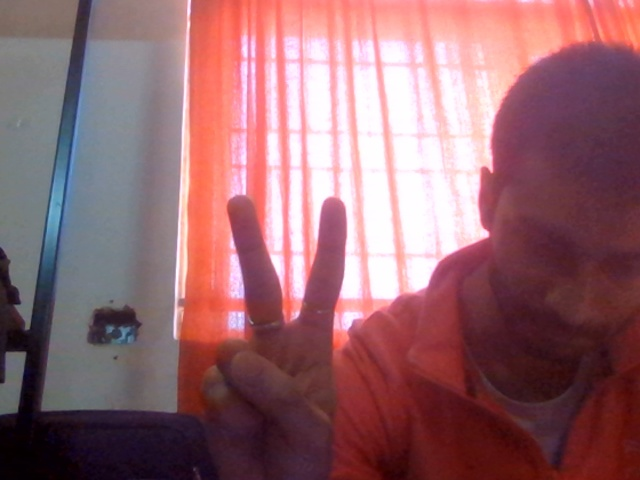V: (154, 184, 384, 480)
